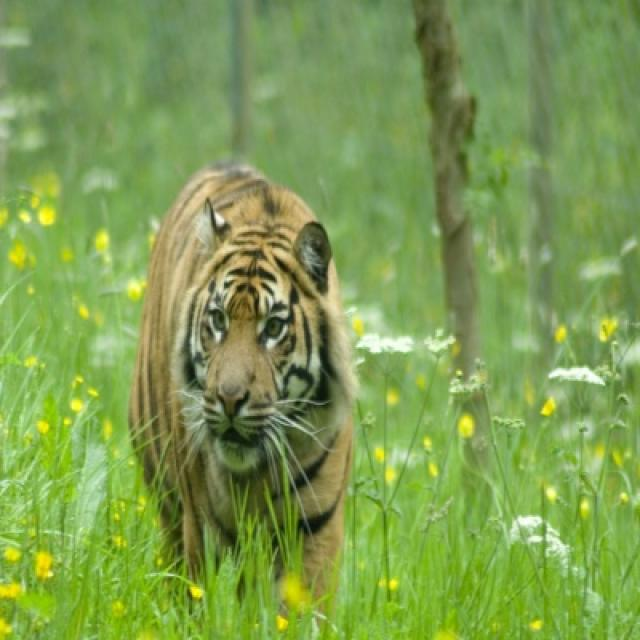Tiger: (127, 155, 361, 632)
